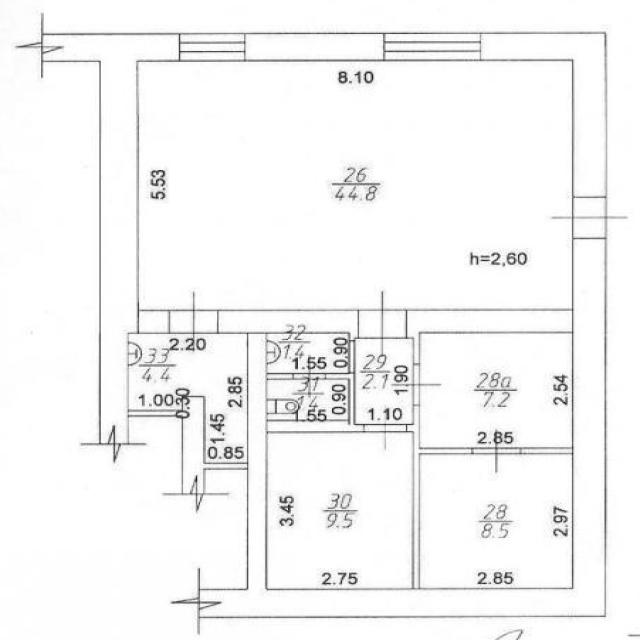Bathrooms: (267, 334, 348, 373), (268, 381, 348, 419)
Corridors: (129, 334, 247, 461), (356, 339, 412, 423)
Doors: (357, 289, 409, 356), (548, 198, 633, 237), (169, 288, 219, 353), (472, 427, 522, 474), (390, 364, 444, 406), (364, 404, 407, 453), (293, 353, 326, 398), (350, 341, 355, 373)
LBwalls: (196, 239, 608, 619), (482, 32, 608, 197), (98, 60, 141, 447), (41, 32, 176, 62), (246, 33, 381, 61)
Offices: (139, 61, 572, 308), (268, 434, 411, 588), (421, 455, 572, 588), (422, 334, 571, 447)
Walls: (218, 310, 358, 589), (407, 406, 473, 588), (128, 395, 247, 495), (407, 309, 574, 364), (268, 373, 364, 433), (139, 310, 168, 333), (522, 447, 572, 455), (267, 373, 293, 380)
Windows: (382, 32, 481, 61), (178, 32, 246, 62)
